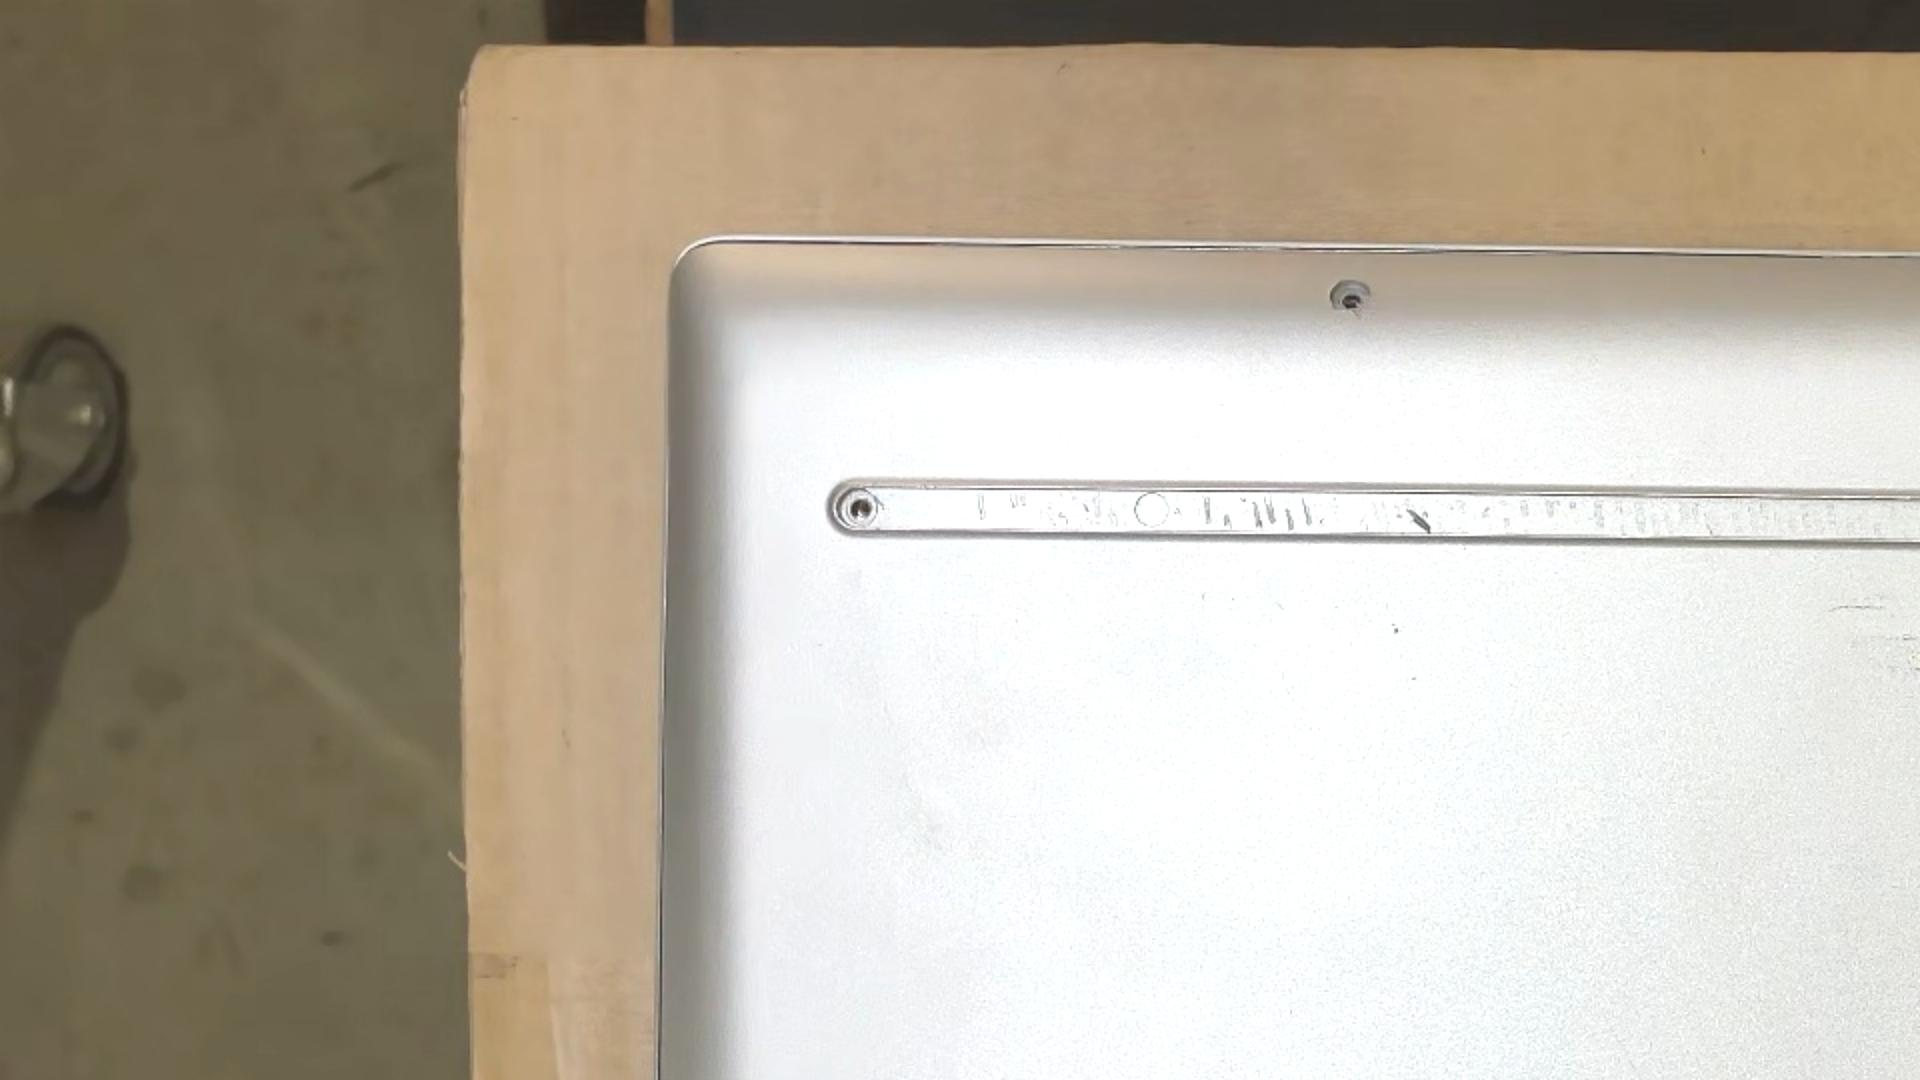chip: (1389, 622, 1400, 637)
scratches: (1605, 1023, 1648, 1080), (1825, 601, 1887, 617), (1404, 506, 1433, 534), (1262, 495, 1279, 526), (1300, 496, 1315, 527), (1251, 501, 1267, 529), (1200, 495, 1213, 526), (1284, 509, 1296, 531), (1222, 513, 1234, 529)
